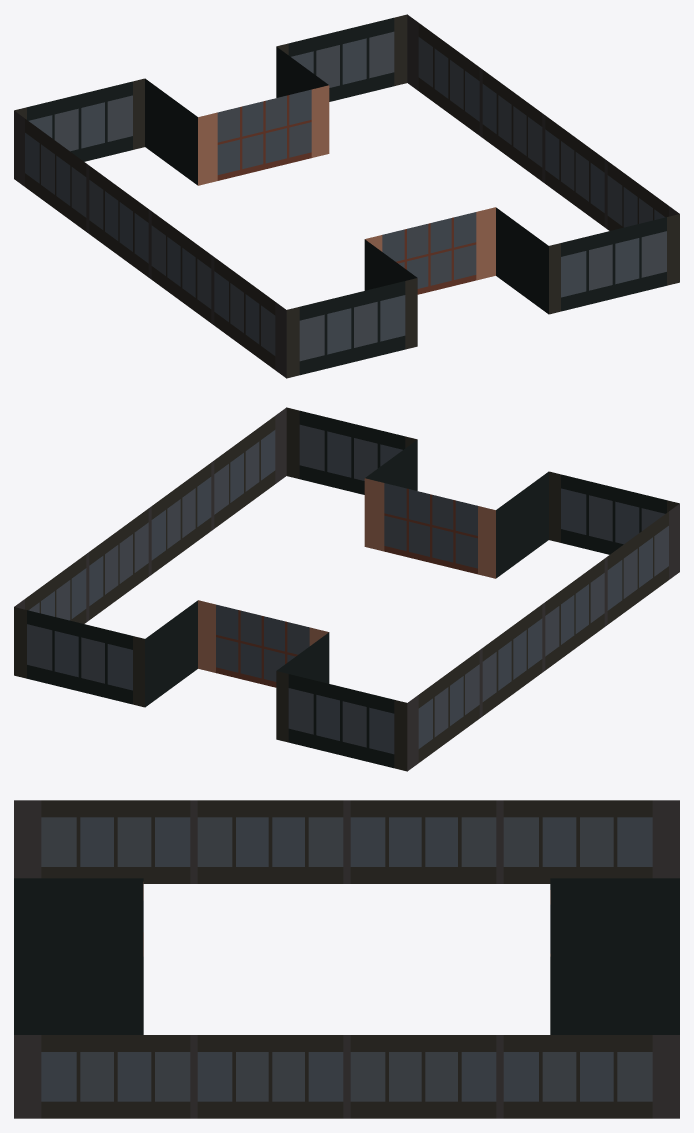
The model's file is TB_CITY_Skysc_T_BodyA_Brown.FBX.
The picture shows the model from 3 angles, top to bottom: view 1: azimuth 30°, elevation 25°; view 2: azimuth 150°, elevation 25°; view 3: azimuth 270°, elevation 25°; orthographic projection. The views are drawn at different scales.
Parts seen in each view (by area): view 1: TB_CITY_Skysc_T_BodyA_Brown; view 2: TB_CITY_Skysc_T_BodyA_Brown; view 3: TB_CITY_Skysc_T_BodyA_Brown.
Boxes of the visible parts, x1=… form: TB_CITY_Skysc_T_BodyA_Brown: x1=14, y1=14, x2=679, y2=378; TB_CITY_Skysc_T_BodyA_Brown: x1=14, y1=407, x2=679, y2=771; TB_CITY_Skysc_T_BodyA_Brown: x1=14, y1=800, x2=679, y2=1118.
Bounding box in the file's own units: 30 × 5 × 36.
